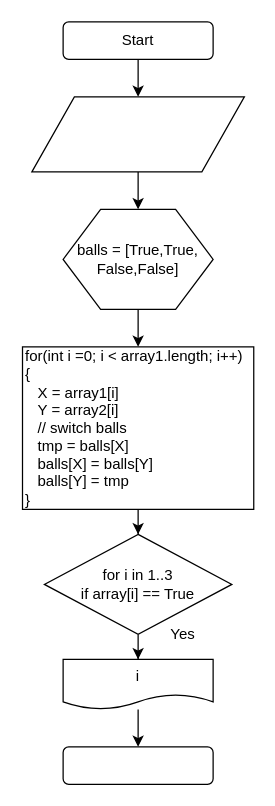
Some shapes in this 275 by 806 pixel diagram are drawn without their labels. Each missing label, with the centre of its shape:
End: point (137, 765)
M = something array1 = [many X...] array2 = [many Y...]: point (137, 134)
